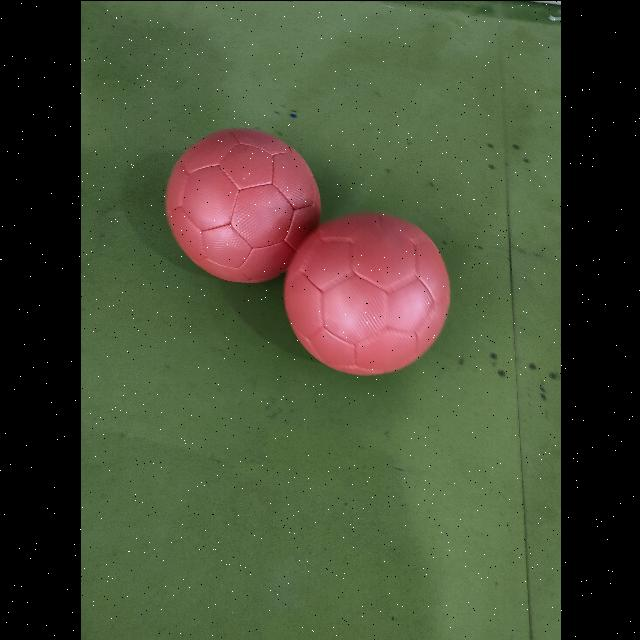R: (284, 212, 448, 374), (165, 128, 319, 282)
